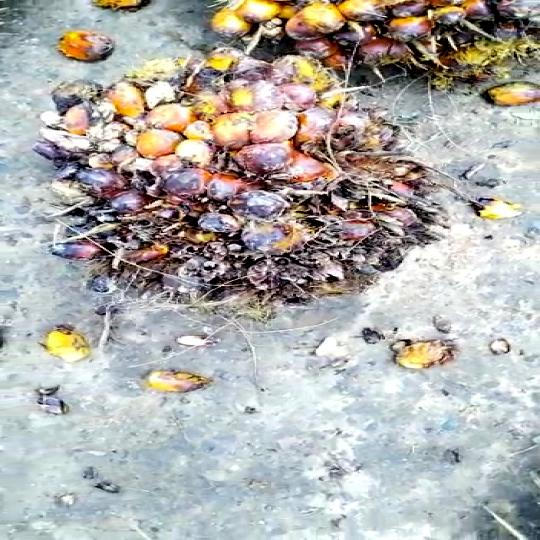masak: (34, 56, 498, 319)
